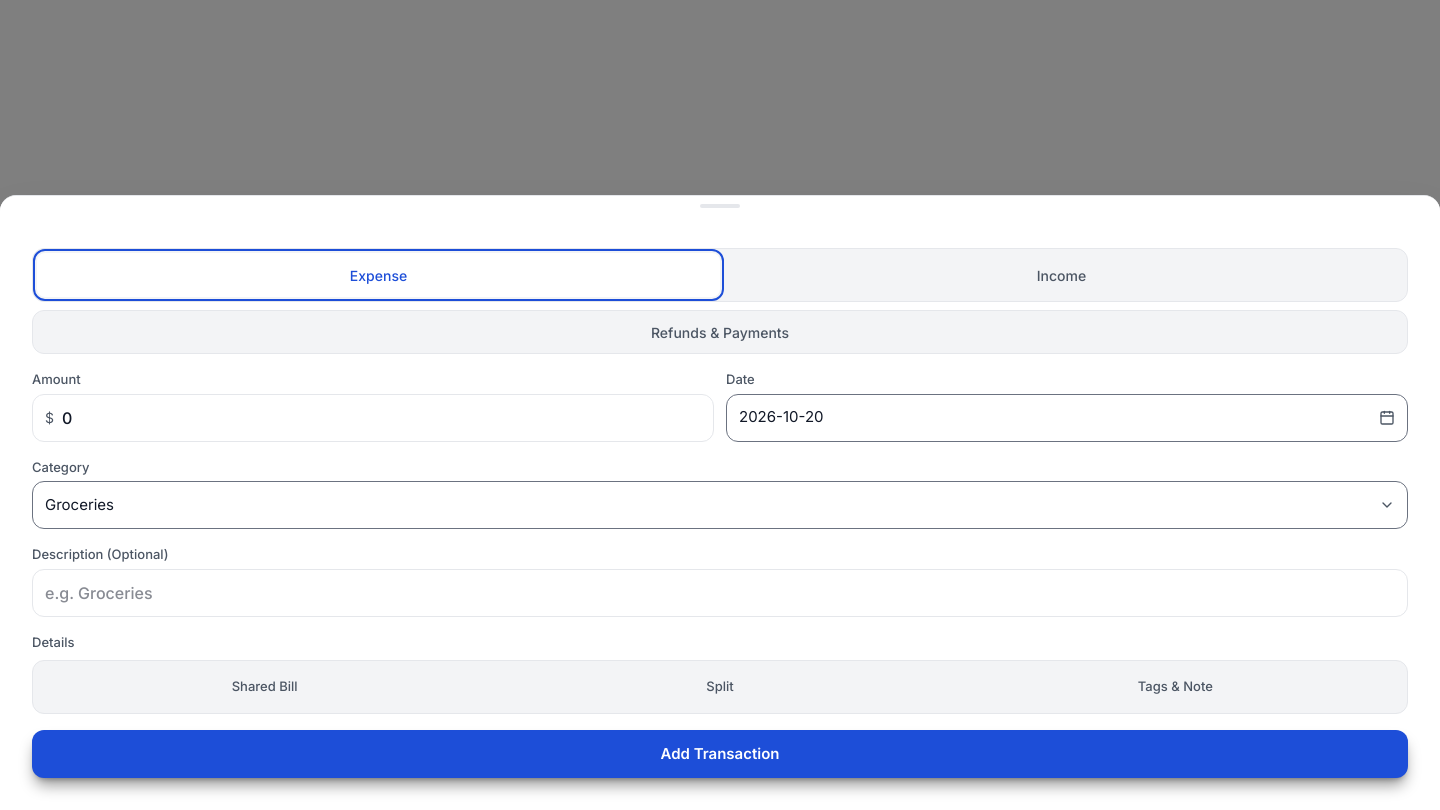
Test: TransactionModal on a phone › shows the core fields and keeps the extra cards closed until a Details tab is chosen
This screenshot has width=1440, height=810.
expect the field labelled "Amount" is shown: met, box [62,406,701,430]
expect the field labelled "Description (Optional)" is shown: met, box [45,580,1395,604]
Step 1. Click the button "Shared Bill" → point(265, 687), box [37,665,492,709]
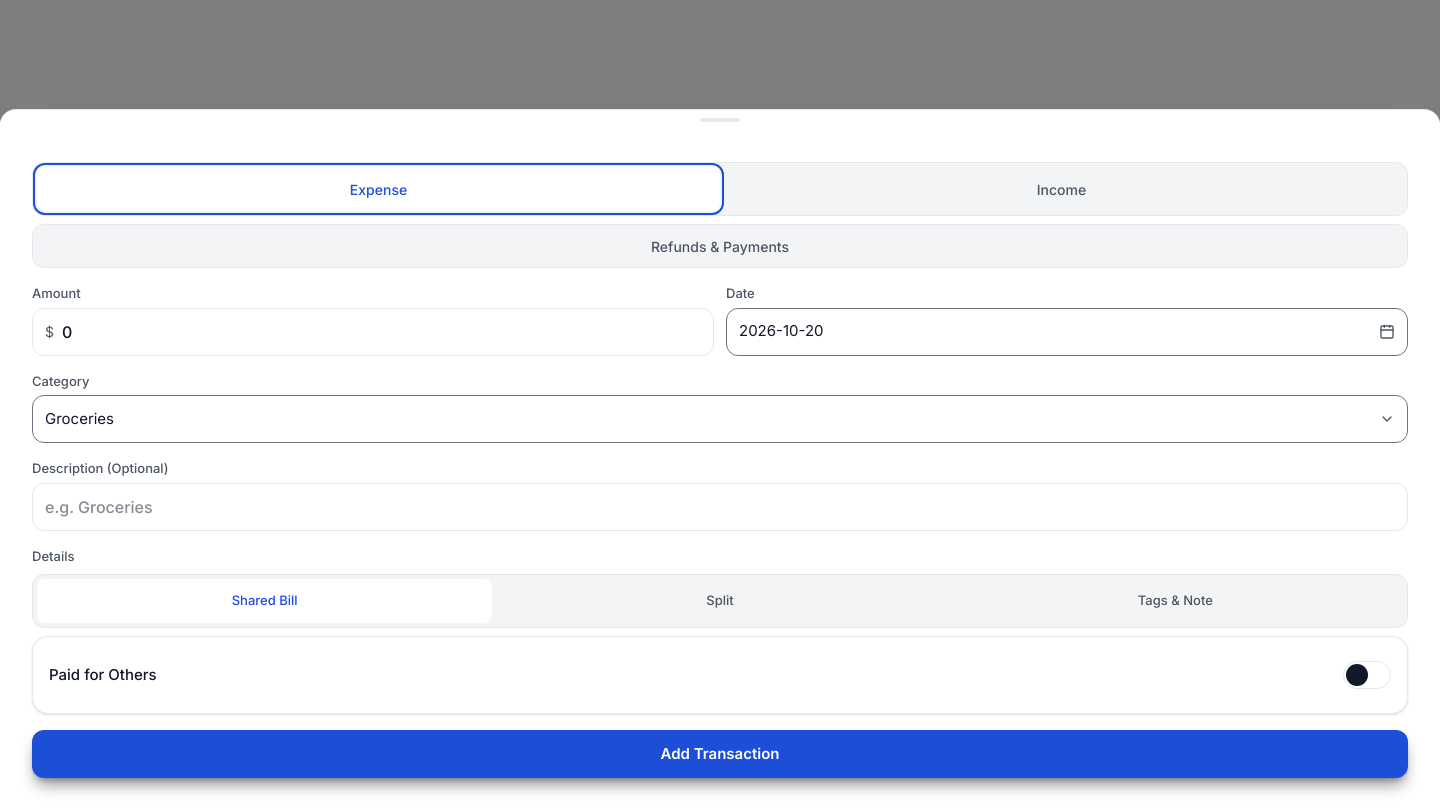
expect the switch named "Paid for Others" is shown: met, box [1343,661,1391,689]
Step 2. Click the button "Shared Bill" → point(265, 601), box [37,579,492,623]
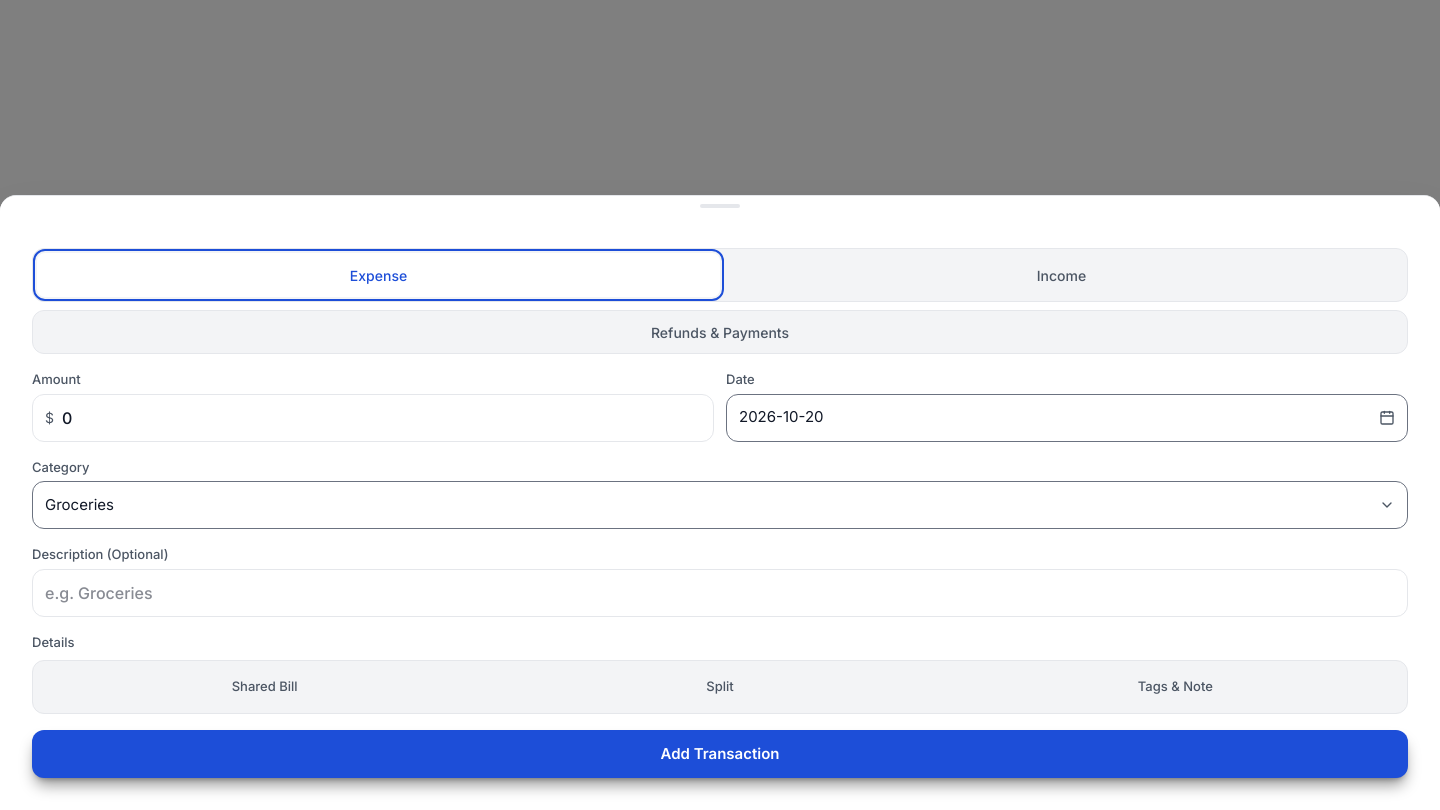
expect the text labelled "Paid for Others" is gone: met
